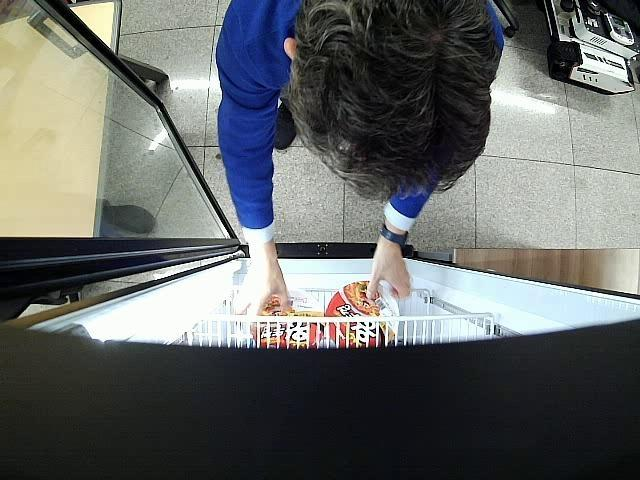10_wangTtukkeong: (324, 281, 401, 348), (251, 287, 325, 348)
